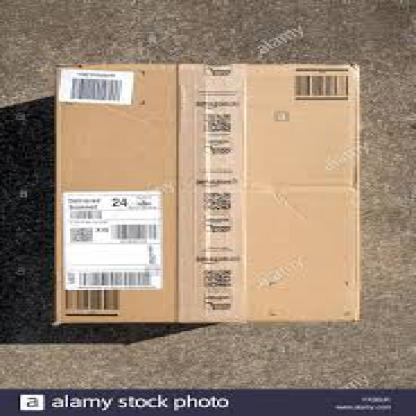paquete: (34, 55, 380, 334)
